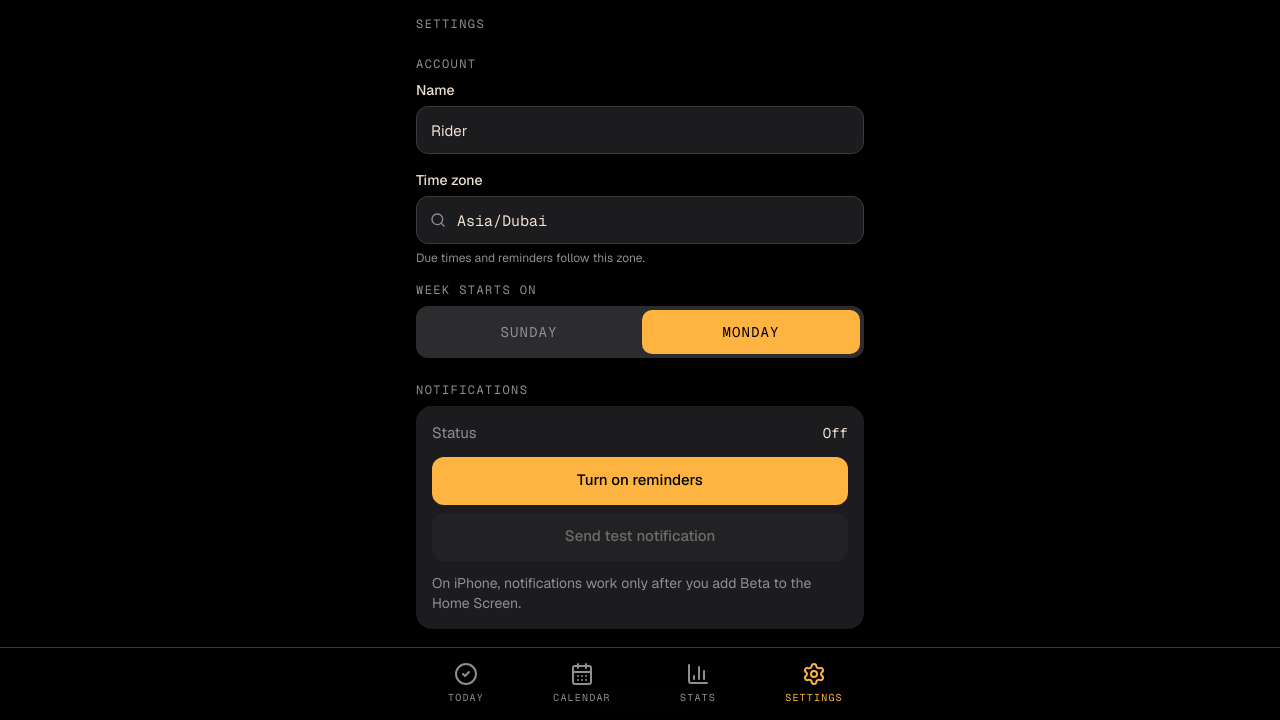
Test: Settings › account auto-save › saves a week-start change
Expected: the field labelled "Name" is shown, [416,106,864,154]
Click the radio button labelled "Sunday" at (529, 332), box [420,310,638,354]
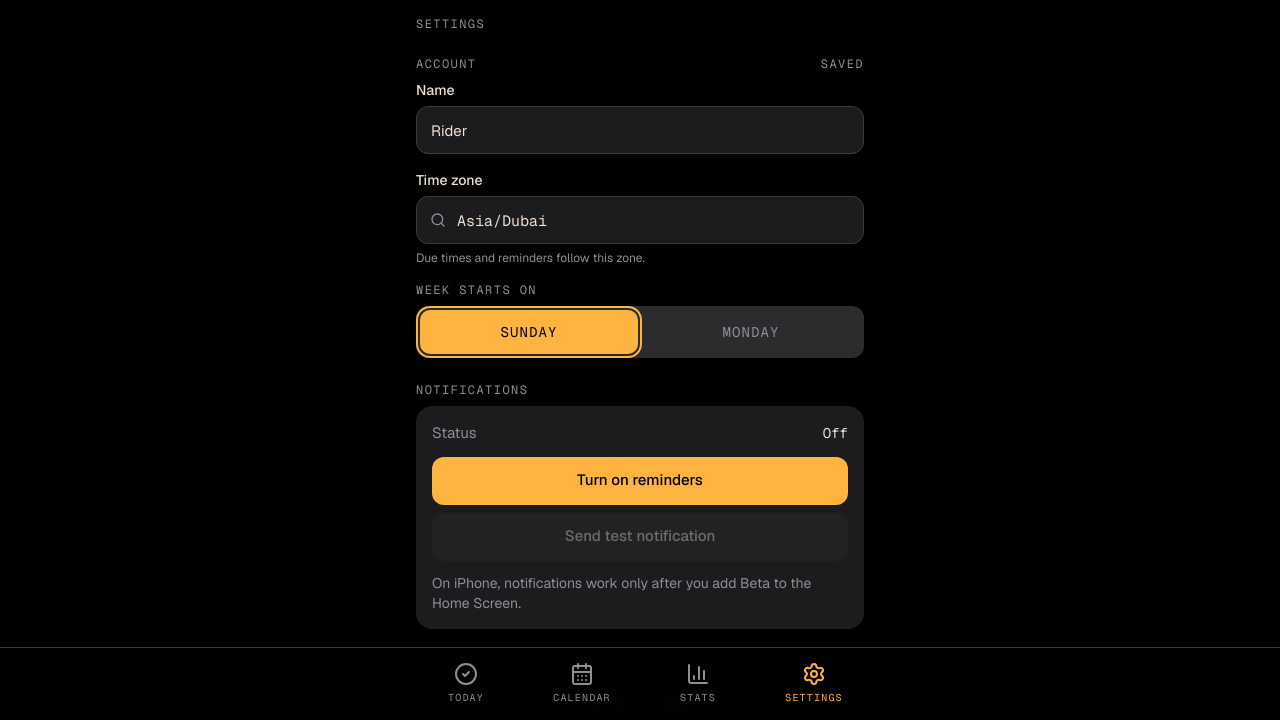
Now the text "Saved" is shown, box [821,56,864,72]
